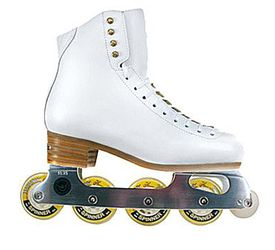roller_blade: (21, 12, 261, 225)
